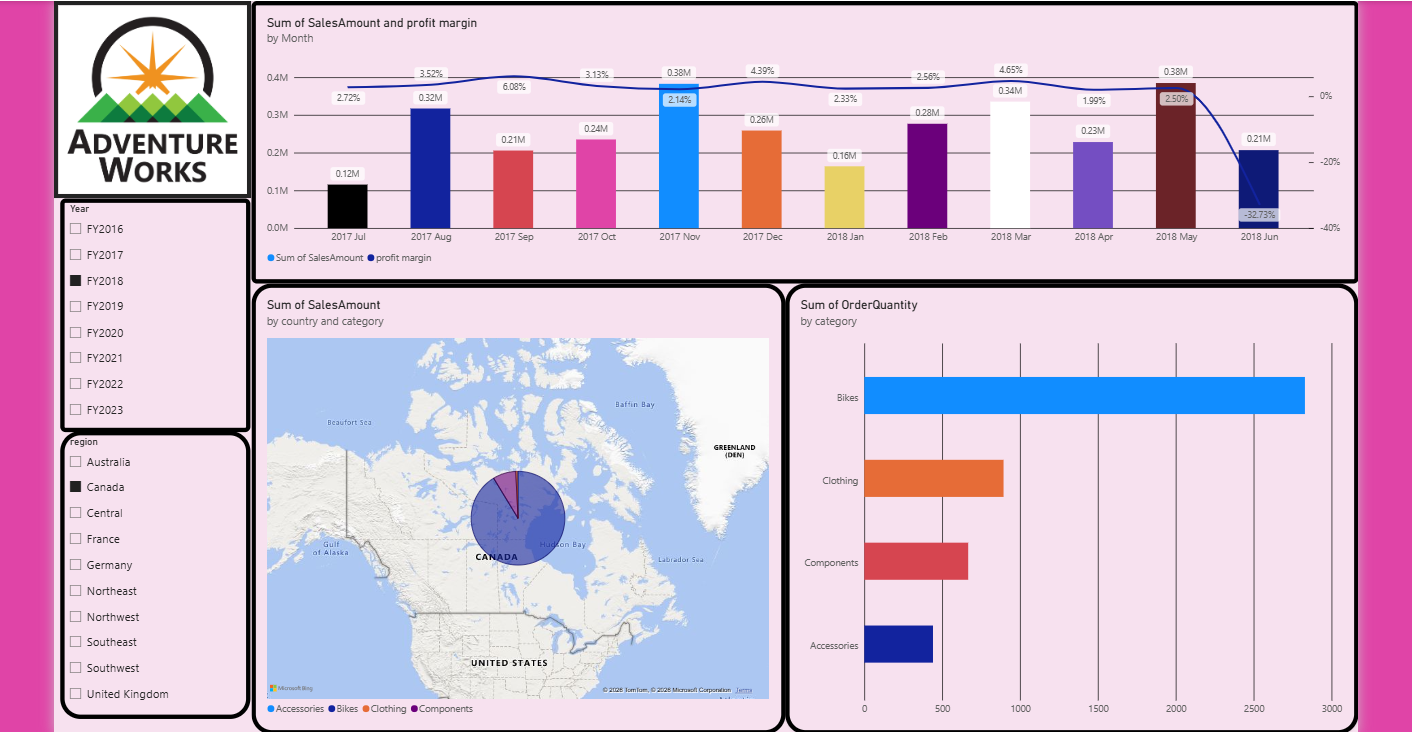

The page's visual inventory and layout, read from the dashboard file:
{"tool":"powerbi","page":{"name":"sales overview","canvas":[1920,1080],"ordinal":4},"visuals":[{"type":"image","box":[0,0,290.8,290.8],"z":0},{"type":"slicer","fields":{"Values":["Date.Year"]},"box":[10,290,280,344],"z":1000},{"type":"slicer","fields":{"Values":["region.region"]},"box":[10,634,280,424],"z":2000},{"type":"lineStackedColumnComboChart","fields":{"Category":["Date.Month"],"Y":["Sum(Sales.SalesAmount)"],"Y2":["Sales.profit margin"]},"box":[290,0,1630,416],"z":3000},{"type":"map","fields":{"Category":["region.country"],"Series":["product.category"],"Size":["Sum(Sales.SalesAmount)"]},"box":[290,416,786,664],"z":4000},{"type":"barChart","fields":{"Category":["product.category"],"Y":["Sum(Sales.OrderQuantity)"]},"box":[1076,416,844,664],"z":5000}]}

Visuals, with their boxes on the page's 1920x1080 design canvas (x1, y1, x2, y2). These are canvas units, not pixel positions in the 1412x732 screenshot, which may show the page scaled, cropped or inside an application window:
image: <bbox>0, 0, 291, 291</bbox>
slicer - Date.Year: <bbox>10, 290, 290, 634</bbox>
slicer - region.region: <bbox>10, 634, 290, 1058</bbox>
lineStackedColumnComboChart - Date.Month x Sum(Sales.SalesAmount): <bbox>290, 0, 1920, 416</bbox>
map - region.country x product.category: <bbox>290, 416, 1076, 1080</bbox>
barChart - product.category x Sum(Sales.OrderQuantity): <bbox>1076, 416, 1920, 1080</bbox>
